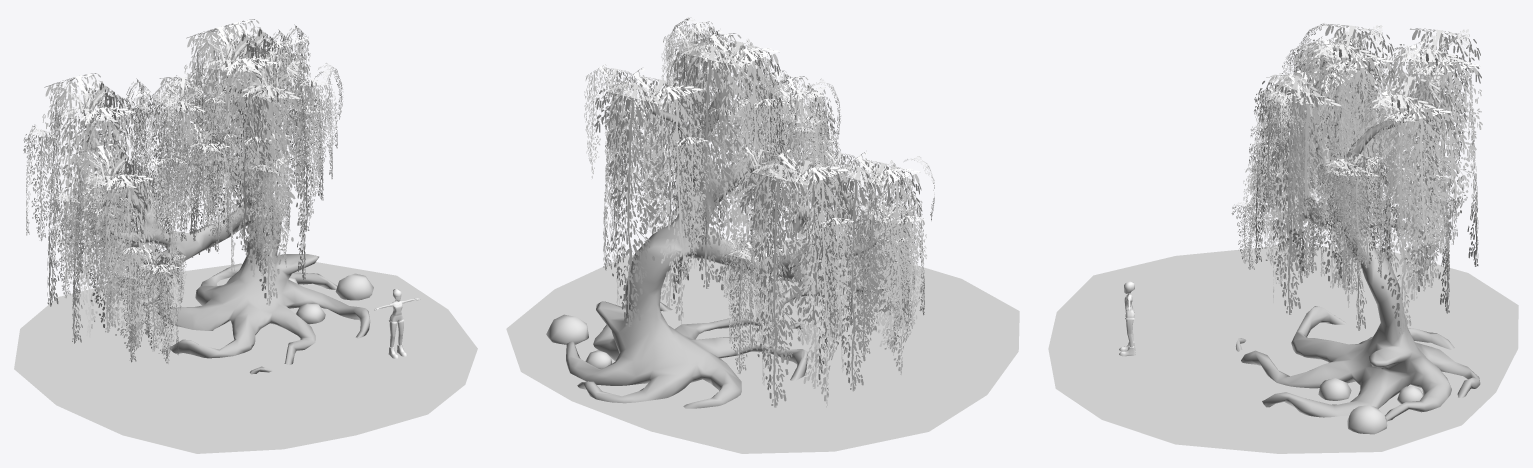
File: garden scenev1.fbx
The picture shows the model from 3 angles, left to right: view 1: azimuth 30°, elevation 25°; view 2: azimuth 150°, elevation 25°; view 3: azimuth 270°, elevation 25°; orthographic projection. The views are drawn at different scales.
Parts seen in each view (by area): view 1: ground, low poly, leave base.117, leave base.029, leave base.025, leave base.010, leave base.014, leave base.001, leave base.121, leave base.105, leave base.026, leave base.017 (+58 smaller); view 2: ground, low poly, leave base.049, leave base.014, leave base.003, leave base.050, leave base.015, leave base.026, leave base.002, leave base.027, leave base.004, leave base.119 (+46 smaller); view 3: ground, low poly, leave base.051, leave base.120, leave base.122, leave base.053, leave base.018, leave base.050, leave base.016, leave base.005, leave base.015, leave base.006 (+39 smaller).
Part boxes in pixels (x1,y1,x2,y2): ground: (14,262,477,453); low poly: (87,71,370,374); leave base.117: (229,85,302,305); leave base.029: (72,175,138,332); leave base.025: (96,174,155,354); leave base.010: (190,58,261,229); leave base.014: (41,73,104,283); leave base.001: (215,57,279,276); leave base.121: (222,79,277,251); leave base.105: (152,100,204,258); leave base.026: (67,142,124,337); leave base.017: (48,107,118,278); ground: (506,239,1019,453); low poly: (566,83,883,408); leave base.049: (594,81,663,326); leave base.014: (740,162,809,407); leave base.003: (672,43,741,288); leave base.050: (642,85,704,326); leave base.015: (787,166,850,407); leave base.026: (820,164,885,391); leave base.002: (781,157,849,388); leave base.027: (865,168,922,374); leave base.004: (719,47,781,286); leave base.119: (682,55,760,297); ground: (1048,246,1518,453); low poly: (1235,83,1480,421); leave base.051: (1358,95,1438,334); leave base.120: (1257,72,1321,314); leave base.122: (1265,91,1341,276); leave base.053: (1381,107,1454,291); leave base.018: (1413,60,1482,244); leave base.050: (1380,74,1453,300); leave base.016: (1388,48,1466,287); leave base.005: (1300,44,1378,282); leave base.015: (1409,28,1481,254); leave base.006: (1324,56,1394,232).
Size of the model in its own units: 3557 by 2744 by 3397.
